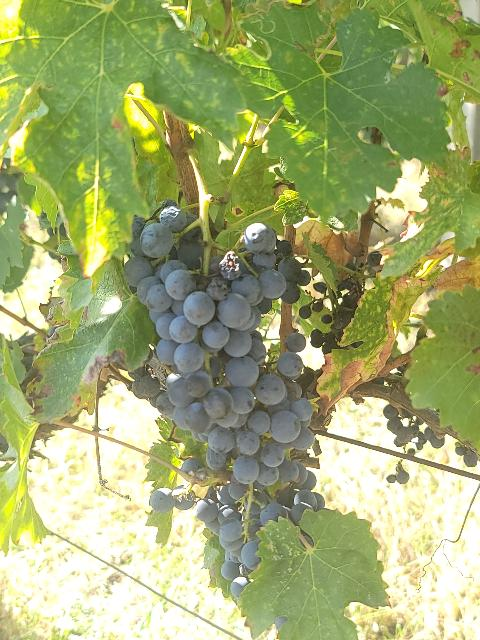grapes: (124, 206, 291, 371), (158, 351, 314, 486), (194, 470, 325, 598)
